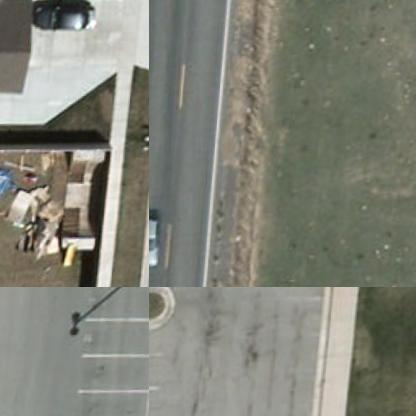car: (34, 1, 101, 38), (149, 216, 166, 273)
